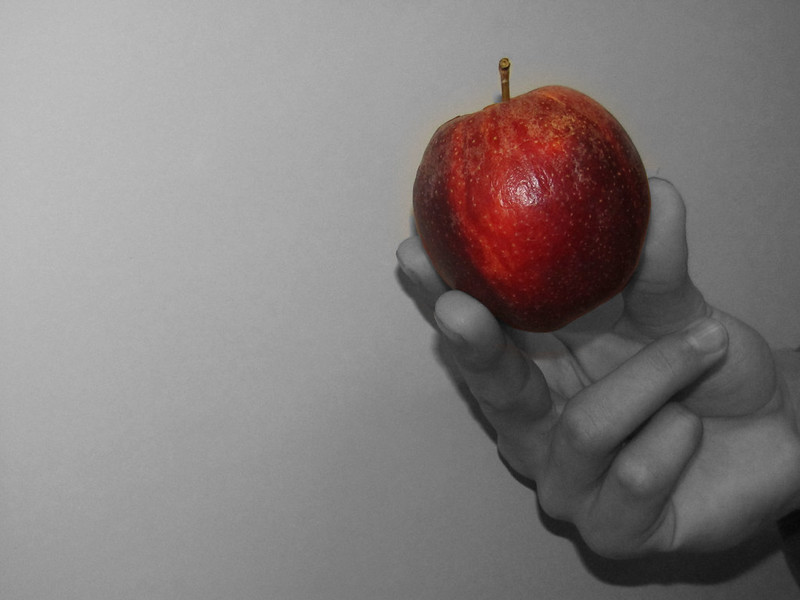apple: (412, 84, 652, 325)
